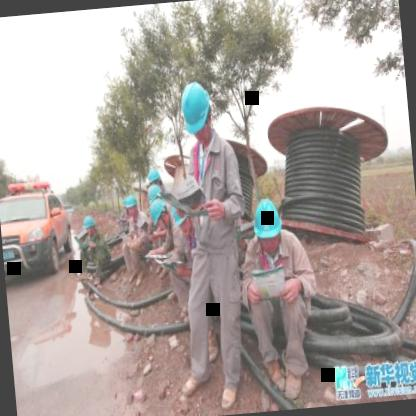helmet: (176, 76, 218, 144), (250, 196, 284, 258), (148, 200, 172, 231), (146, 184, 166, 207), (124, 192, 140, 220), (147, 168, 164, 192), (83, 214, 97, 235)
